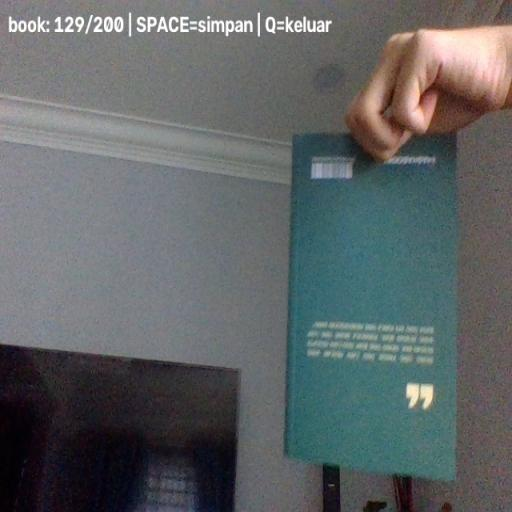Book: (284, 131, 459, 484)
